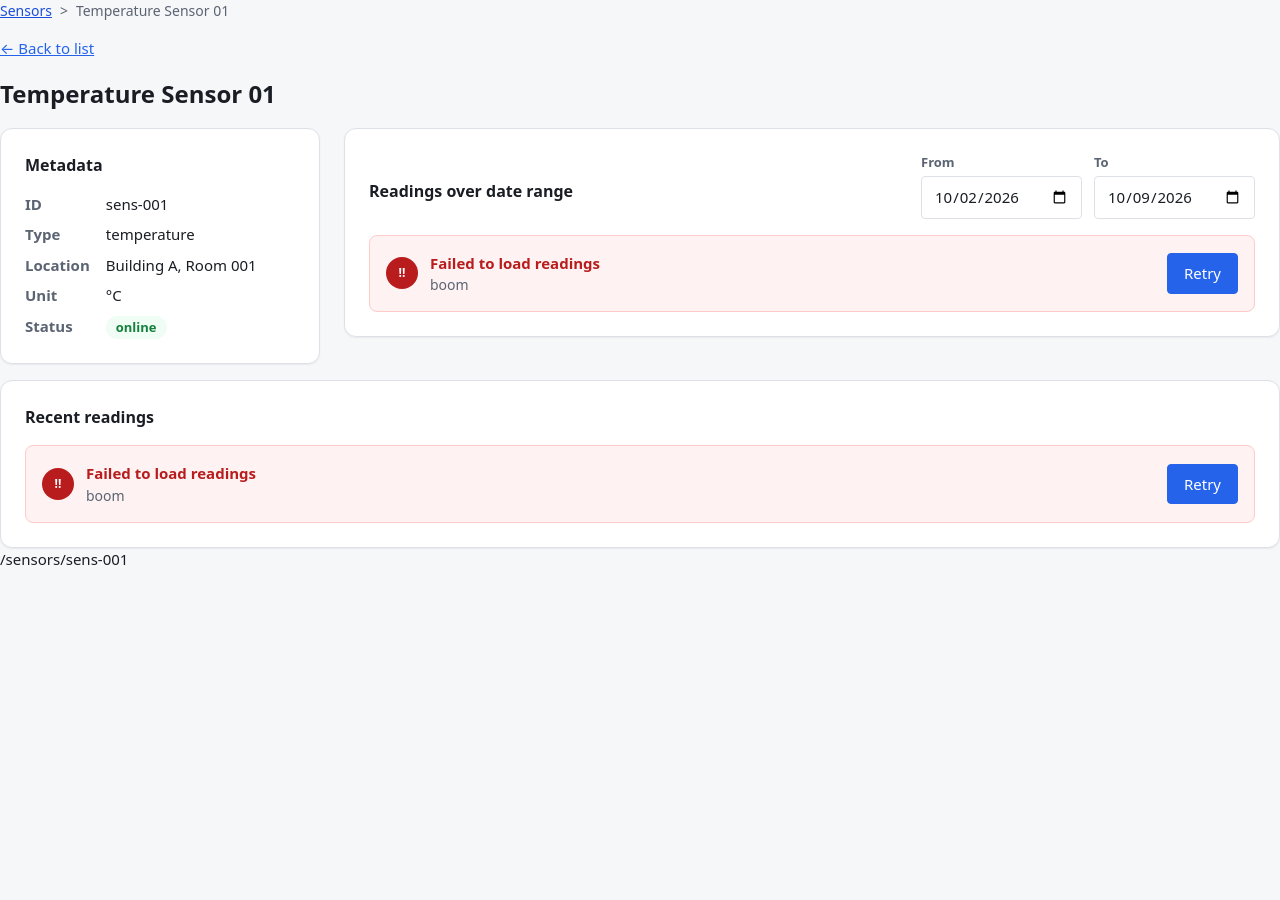
Test: SensorDetailPage › shows an error banner for readings and recovers via Retry
expect the text "Failed to load readings" below "Readings over date range" is shown: met, box [430,252,600,272]
expect the text "boom" below "Readings over date range" is shown: met, box [430,275,469,294]
Click the button "Retry" below "From" at (1202, 273), box [1167,253,1238,294]
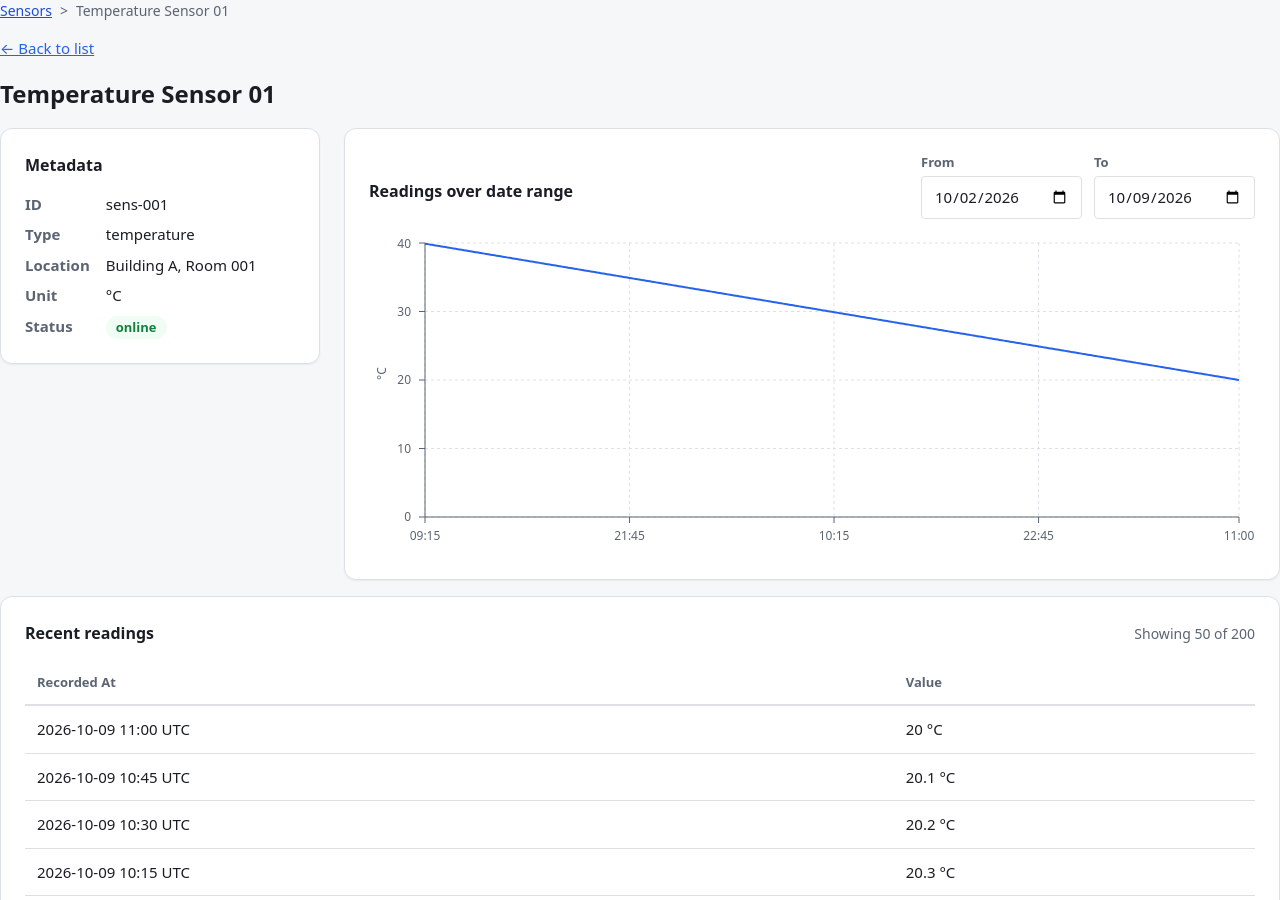
expect the text "Showing 50 of 200" is shown: met, box [1134,622,1255,644]
